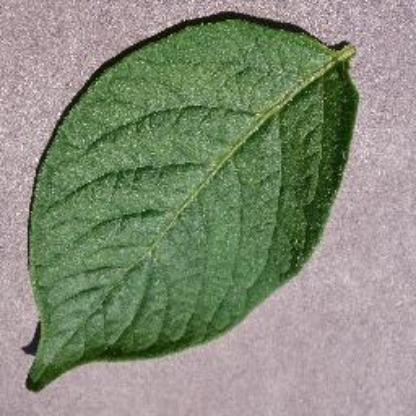Healthy-plant: (7, 14, 373, 388)
